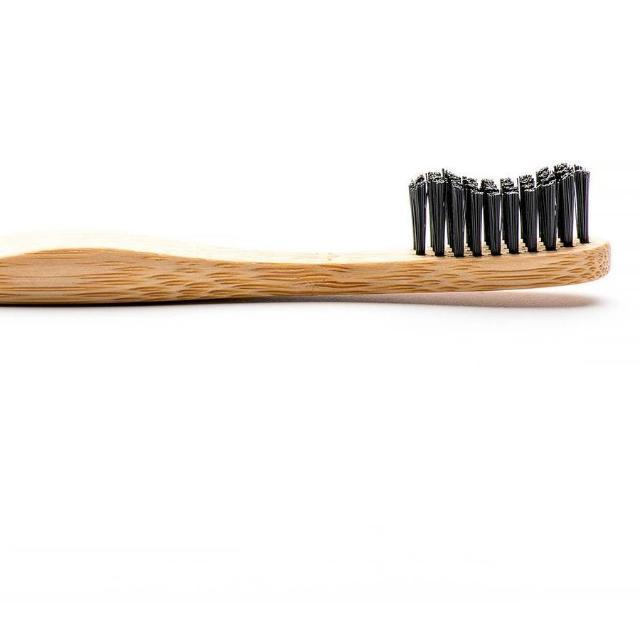toothbrush: (380, 106, 620, 334)
